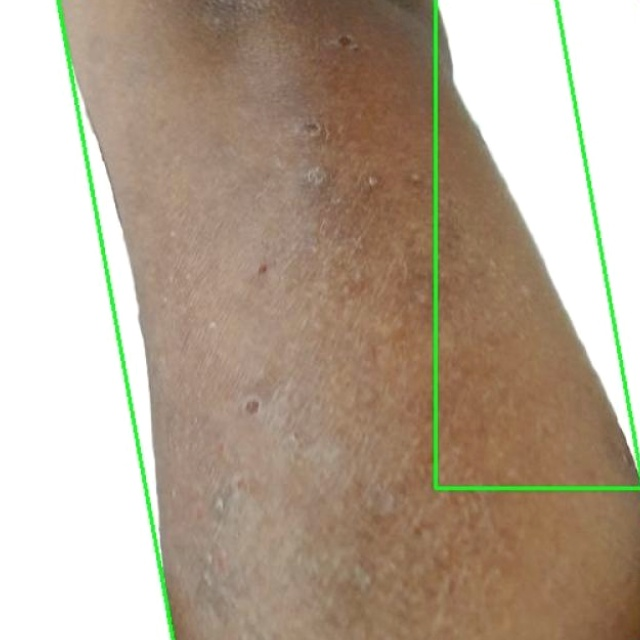Contact Dermatitis: (59, 0, 639, 639), (436, 0, 639, 488)
